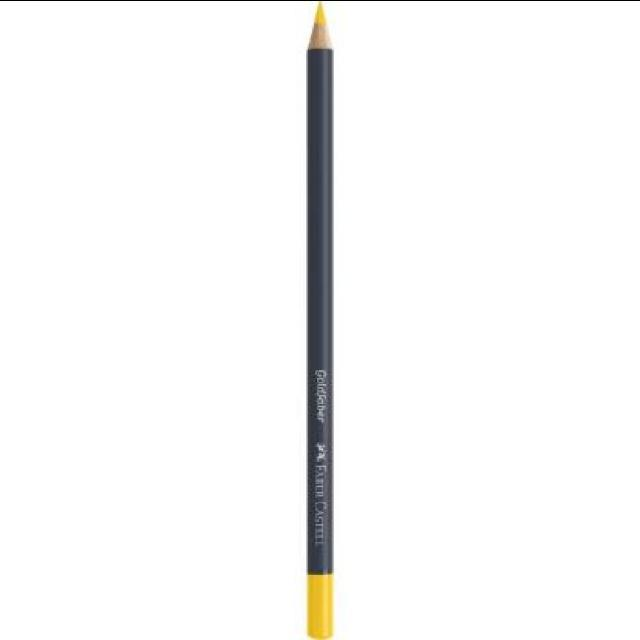Pencil: (296, 0, 341, 74)
